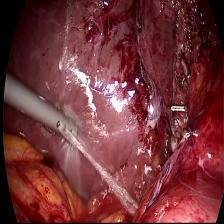Irrigator: (46, 103, 80, 143)
